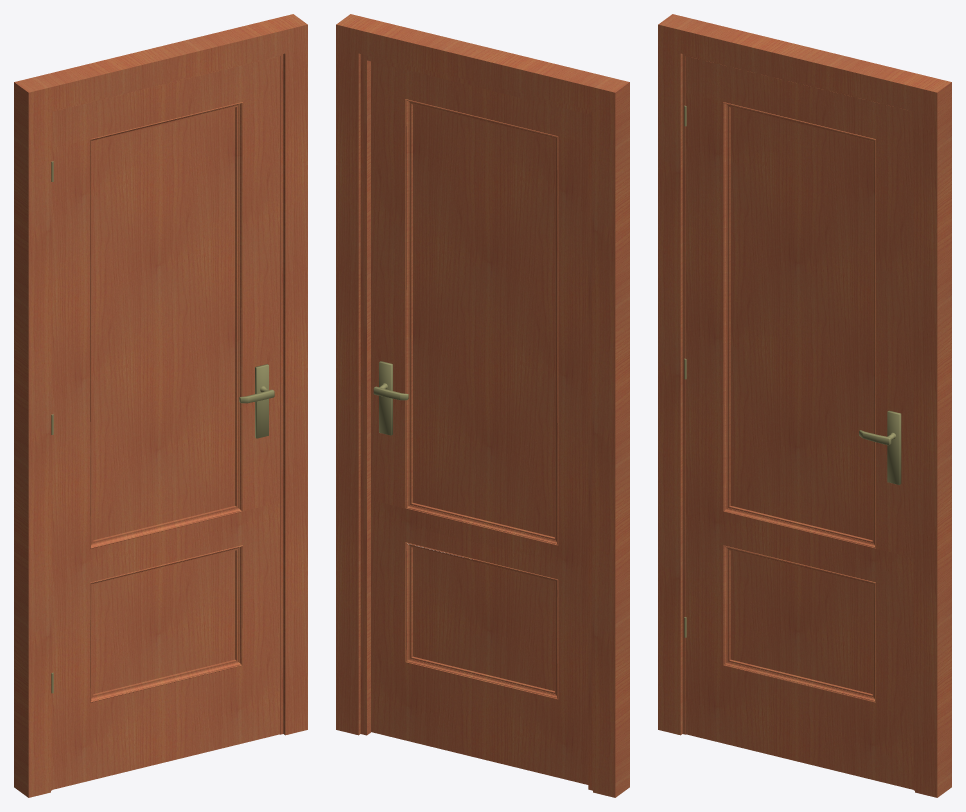
Rendered from sweethome3d-scopia-door-51.glb.
3 renders of one model, left to right at view 1: azimuth 30°, elevation 25°; view 2: azimuth 150°, elevation 25°; view 3: azimuth 330°, elevation 25°, orthographic.
Visible parts, largest first — view 1: sweethome3d_opening_on_hinge_1_door, marc_Cube, sweethome3d_opening_on_hinge_1_maneta_puerta; view 2: sweethome3d_opening_on_hinge_1_door, marc_Cube, sweethome3d_opening_on_hinge_1_maneta_puerta; view 3: sweethome3d_opening_on_hinge_1_door, marc_Cube, sweethome3d_opening_on_hinge_1_maneta_puerta.
Boxes of the visible parts, x1,y1,x2,y2 form: sweethome3d_opening_on_hinge_1_door: (52,56,279,789); marc_Cube: (14,14,307,797); sweethome3d_opening_on_hinge_1_maneta_puerta: (239,364,274,438); sweethome3d_opening_on_hinge_1_door: (371,61,588,784); marc_Cube: (336,14,629,797); sweethome3d_opening_on_hinge_1_maneta_puerta: (373,361,408,435); sweethome3d_opening_on_hinge_1_door: (686,56,913,789); marc_Cube: (658,14,951,797); sweethome3d_opening_on_hinge_1_maneta_puerta: (859,410,901,484).
Bounding box in the file's own units: 87.38 × 211 × 13.81.
5 materials, 3 textured.
